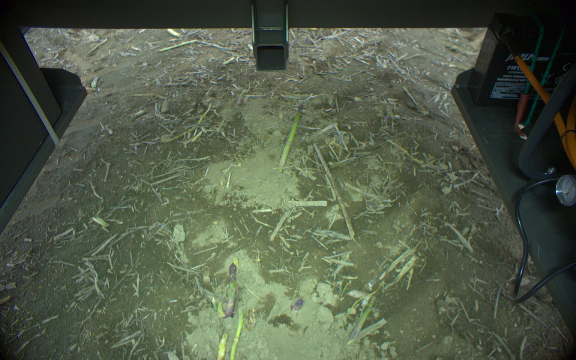aspa: (276, 102, 305, 169), (346, 292, 379, 348), (223, 263, 242, 317), (229, 307, 245, 360), (216, 332, 229, 360)
